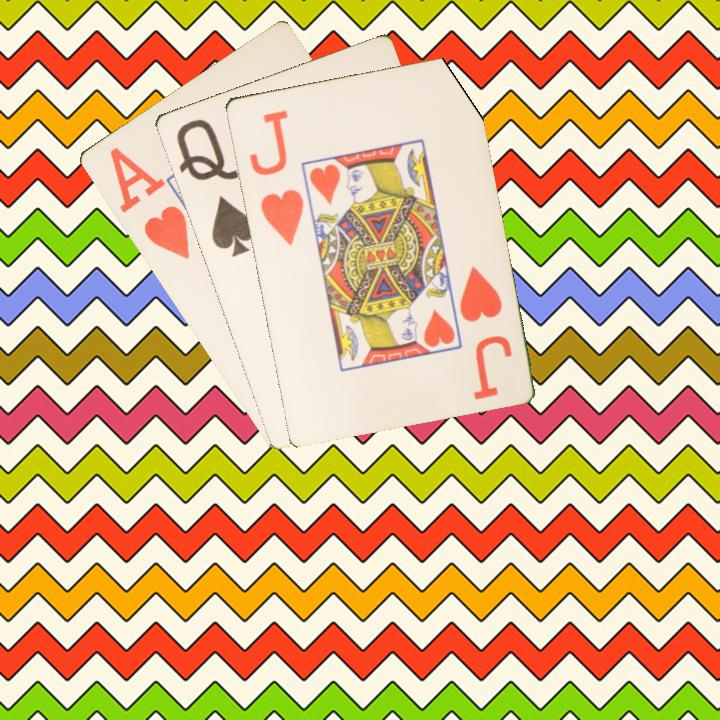Ah: (105, 143, 192, 263)
Jh: (245, 106, 307, 249), (455, 262, 505, 325)
Qs: (172, 115, 258, 260)
